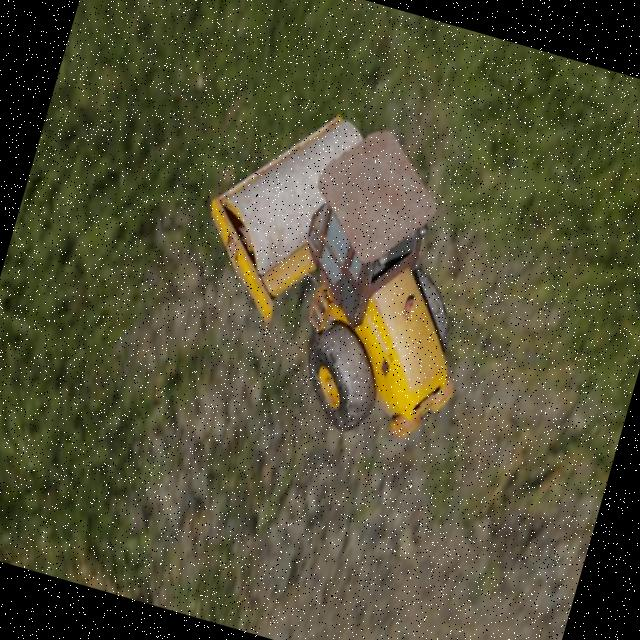Roller: (160, 86, 518, 458)
